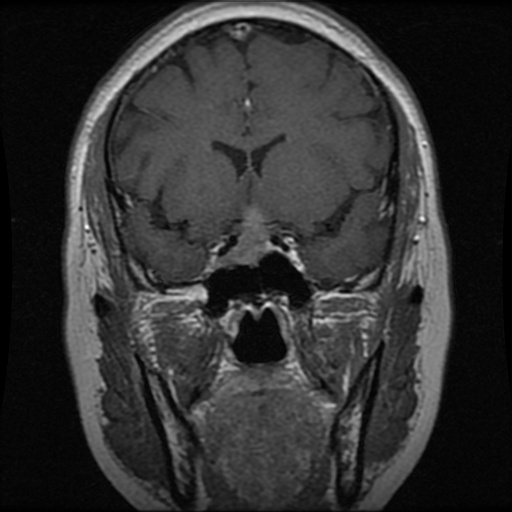pituitary: (217, 206, 270, 268)
